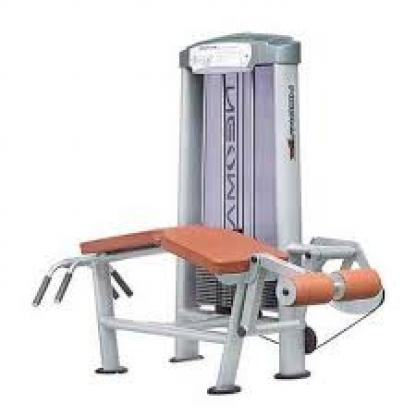reg curl machine: (28, 25, 389, 395)
